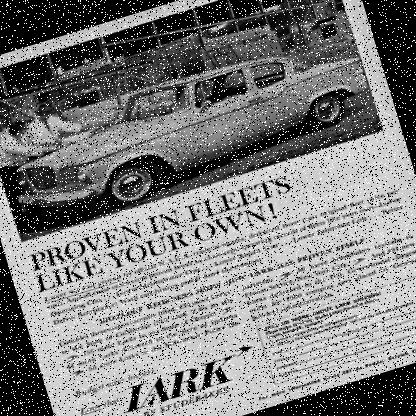Car: (0, 8, 382, 233)
